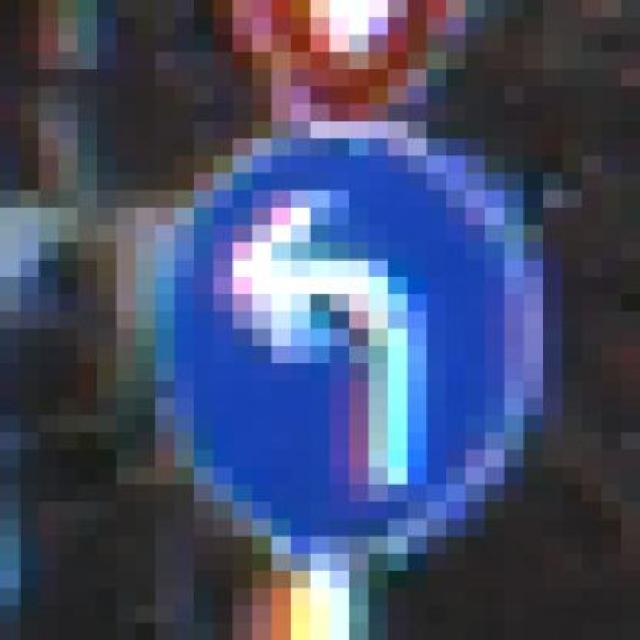Turn left ahead: (155, 121, 543, 553)
